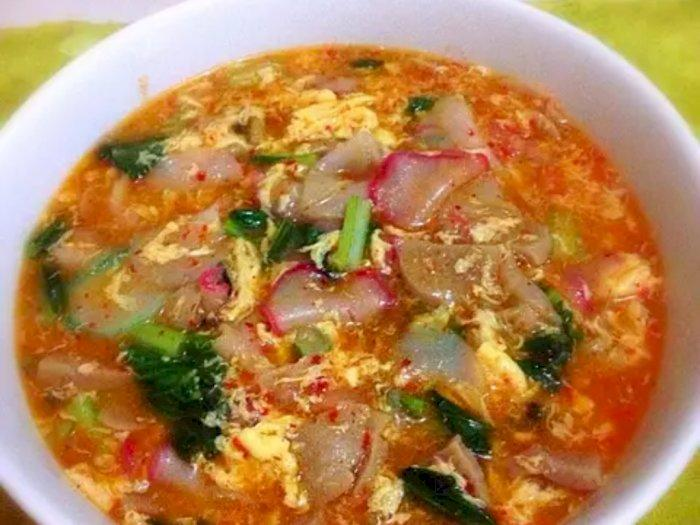seblak: (12, 42, 672, 525)
